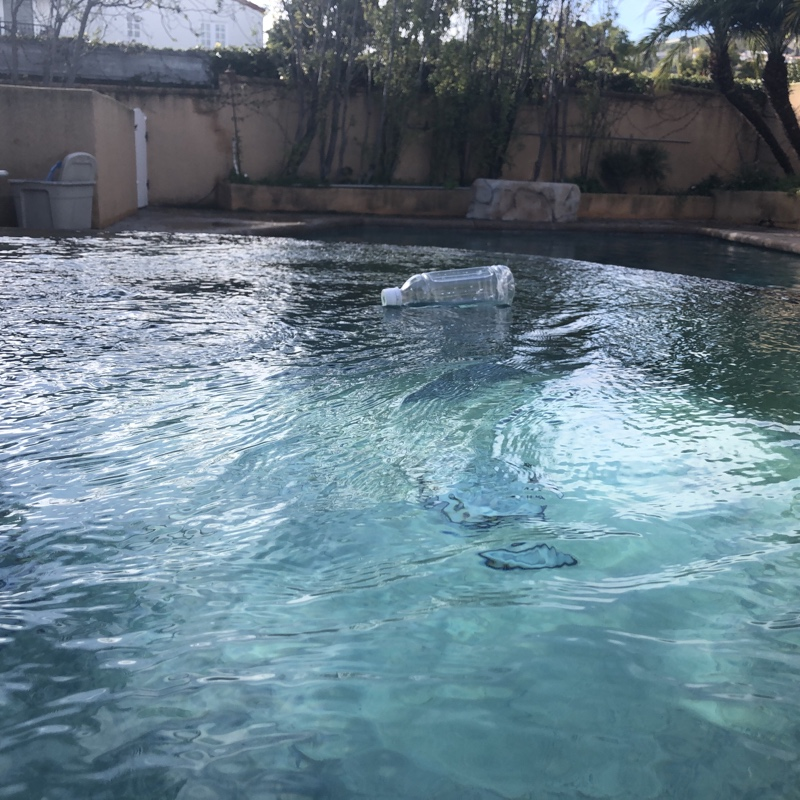Plastic Bottle: (377, 262, 516, 310)
